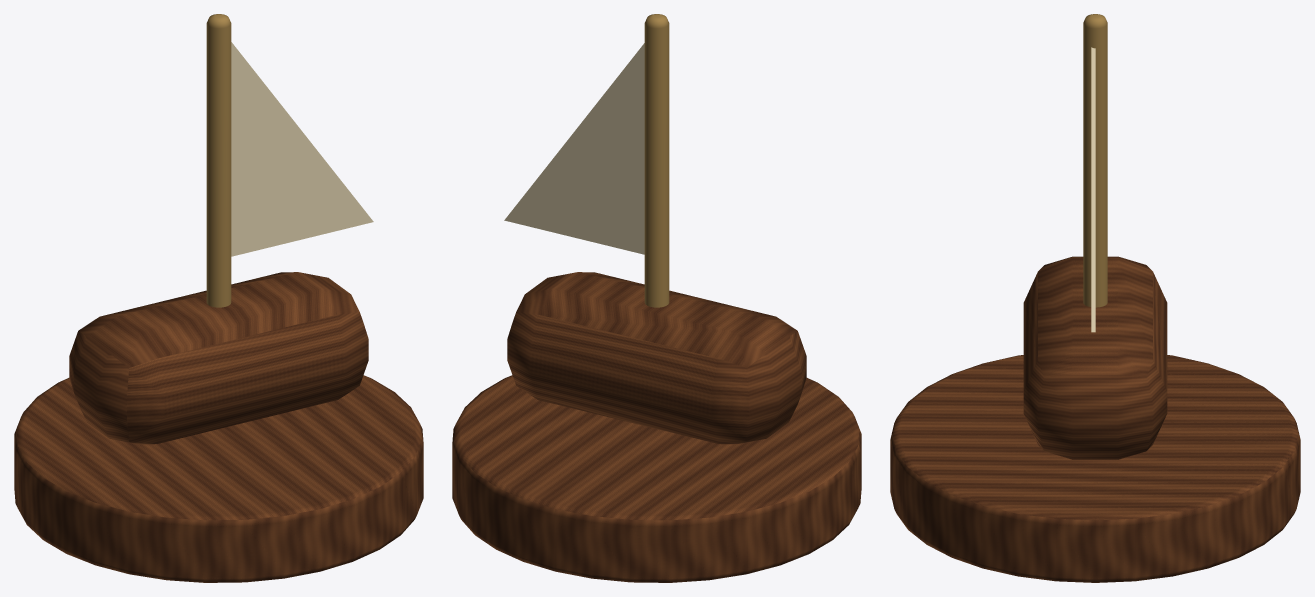
File: Pickup_Boat.fbx
The picture shows the model from 3 angles, left to right: view 1: azimuth 30°, elevation 25°; view 2: azimuth 150°, elevation 25°; view 3: azimuth 270°, elevation 25°; orthographic projection.
Visible parts, largest first — view 1: Token round plinth.004, Small boat hull.001, Boat canvas sail.001, Boat mast.001; view 2: Token round plinth.004, Small boat hull.001, Boat canvas sail.001, Boat mast.001; view 3: Token round plinth.004, Small boat hull.001, Boat mast.001, Boat canvas sail.001.
Boxes of the visible parts, x1,y1,x2,y2 form: Token round plinth.004: [14, 375, 423, 582]; Small boat hull.001: [69, 272, 368, 444]; Boat canvas sail.001: [231, 42, 373, 256]; Boat mast.001: [206, 14, 231, 307]; Token round plinth.004: [452, 375, 861, 582]; Small boat hull.001: [507, 272, 806, 444]; Boat canvas sail.001: [504, 43, 644, 254]; Boat mast.001: [644, 14, 669, 307]; Token round plinth.004: [890, 355, 1300, 582]; Small boat hull.001: [1023, 256, 1167, 459]; Boat mast.001: [1083, 14, 1107, 307]; Boat canvas sail.001: [1091, 47, 1095, 332].
Bounding box in the file's own units: 0.1 × 0.13 × 0.1.
3 materials, 1 textured.
